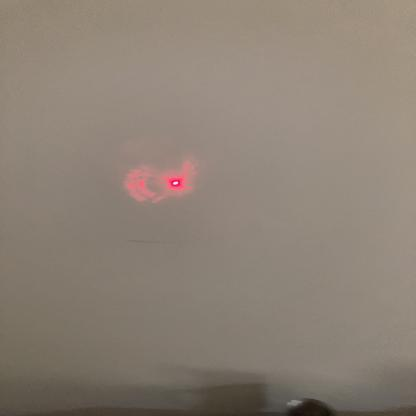target: (168, 176, 185, 193)
